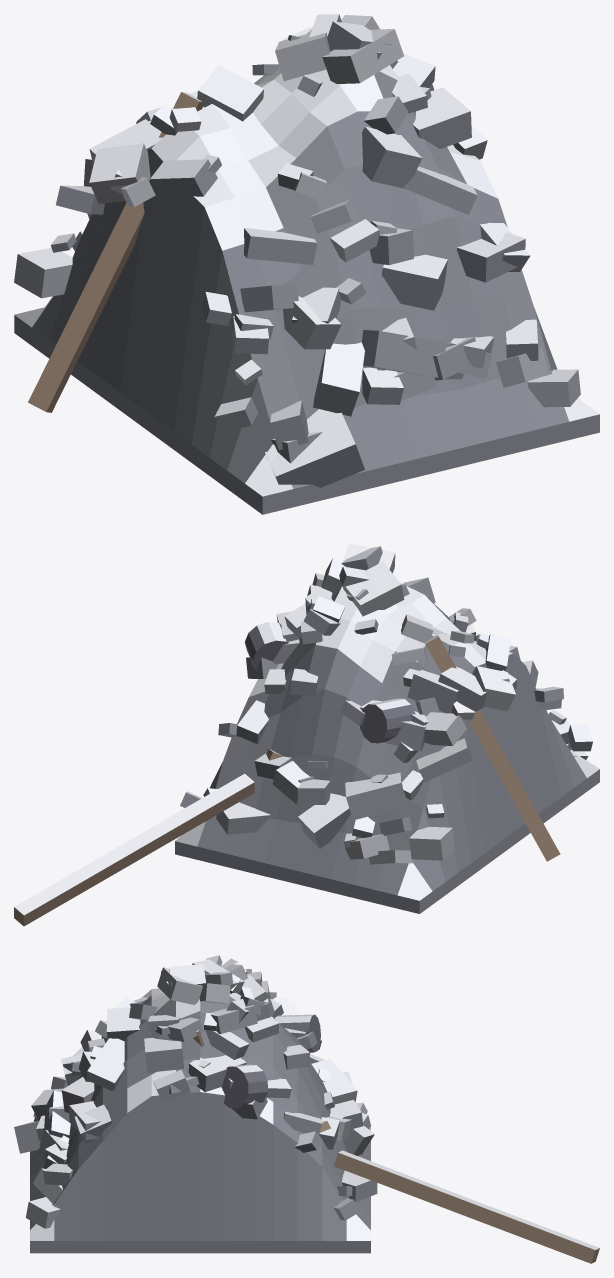
Rendered from PR_Bloqueio_Viela_A.fbx.
The picture shows the model from 3 angles, top to bottom: view 1: azimuth 30°, elevation 25°; view 2: azimuth 150°, elevation 25°; view 3: azimuth 270°, elevation 25°; orthographic projection. The views are drawn at different scales.
Parts seen in each view (by area): view 1: PR_Bloqueio_Viela_A; view 2: PR_Bloqueio_Viela_A; view 3: PR_Bloqueio_Viela_A.
Boxes of the visible parts, box(x1,y1,x2,y2) form: PR_Bloqueio_Viela_A: box(14, 14, 599, 514); PR_Bloqueio_Viela_A: box(14, 543, 599, 926); PR_Bloqueio_Viela_A: box(14, 955, 599, 1263).
Bounding box in the file's own units: 8.41 × 5.8 × 12.71.
